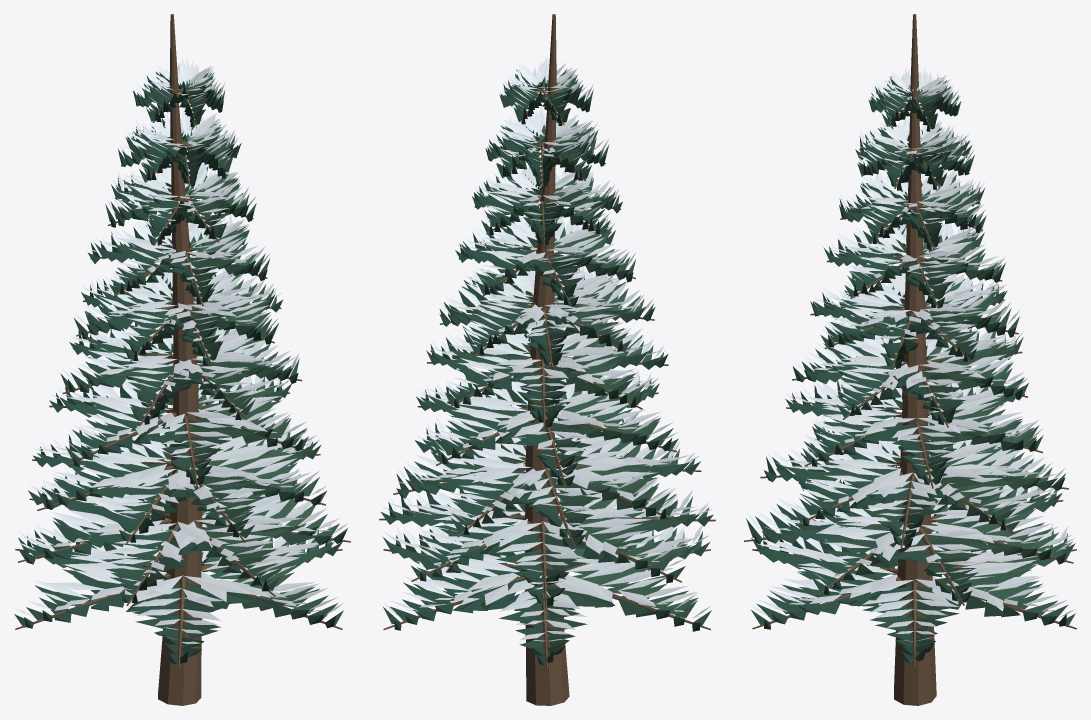
The model's file is snow_pine.gltf.
The picture shows the model from 3 angles, left to right: view 1: azimuth 30°, elevation 25°; view 2: azimuth 150°, elevation 25°; view 3: azimuth 270°, elevation 25°; orthographic projection.
Visible parts, largest first — view 1: snow_pine; view 2: snow_pine; view 3: snow_pine.
Part boxes in pixels (box(x1,y1,x2,y2)): snow_pine: box(14, 14, 350, 705); snow_pine: box(379, 14, 715, 705); snow_pine: box(744, 14, 1076, 705).
Size of the model in its own units: 5.5 by 11.02 by 4.9.
